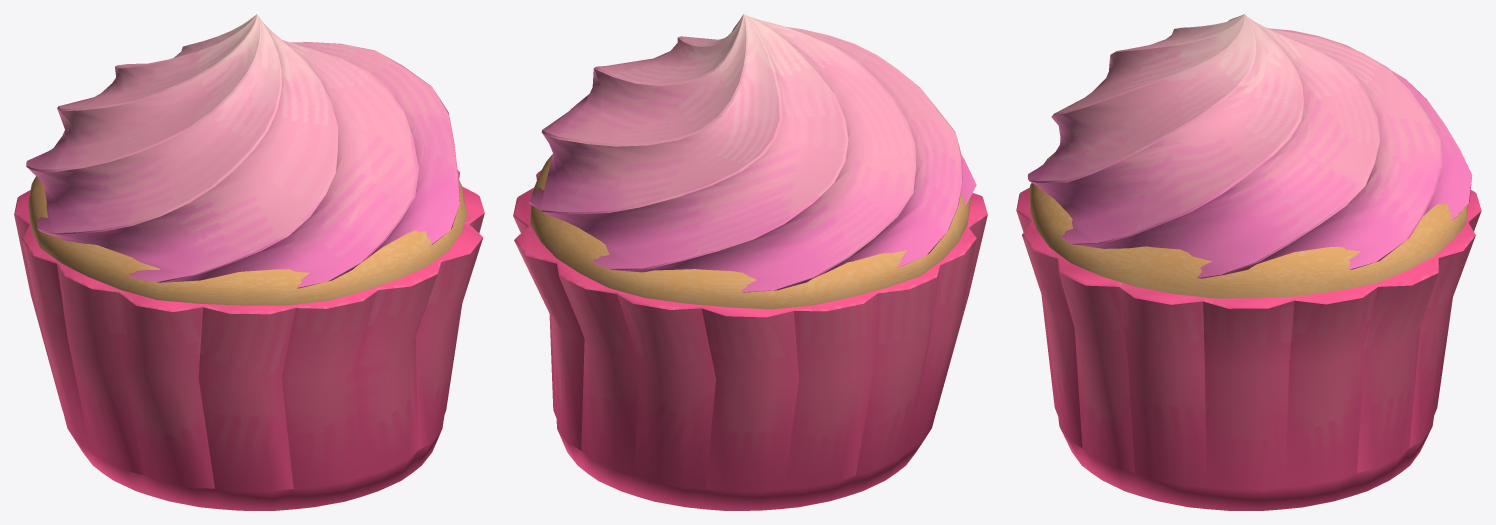
The model's file is CupCake(1).fbx.
3 views of the same model, side by side, from view 1: azimuth 30°, elevation 25°; view 2: azimuth 150°, elevation 25°; view 3: azimuth 270°, elevation 25° (orthographic).
Parts seen in each view (by area): view 1: Cupcake; view 2: Cupcake; view 3: Cupcake.
Part boxes in pixels (x1,y1,x2,y2): Cupcake: (14,14,484,510); Cupcake: (513,14,987,510); Cupcake: (1016,14,1481,510).
Size of the model in its own units: 340 by 339 by 340.
Materials: 1 (1 with a texture image).
